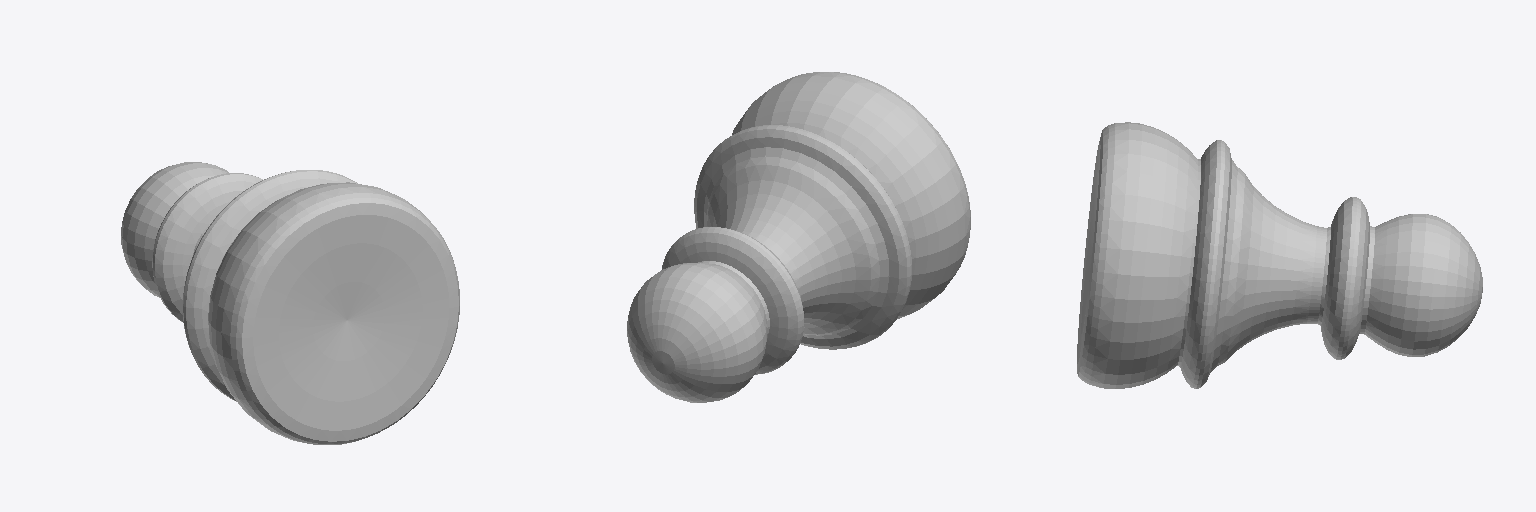
File: pawn.obj
3 renders of one model, left to right at view 1: azimuth 30°, elevation 25°; view 2: azimuth 150°, elevation 25°; view 3: azimuth 270°, elevation 25°, orthographic.
Visible parts, largest first — view 1: piece3; view 2: piece3; view 3: piece3.
Part boxes in pixels (x1,y1,x2,y2): piece3: (121,162,459,444); piece3: (627,72,970,402); piece3: (1077,122,1482,388).
Size of the model in its own units: 1.25 by 1.25 by 1.9.